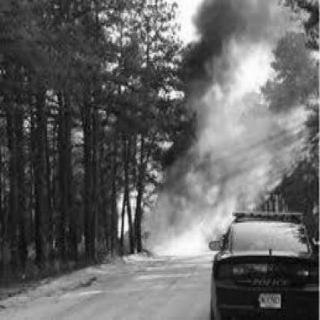Fire: (138, 173, 186, 247)
Smoke: (179, 1, 295, 183)
